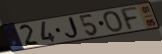2: (19, 23, 42, 48)
4: (41, 20, 59, 44)
5: (78, 12, 99, 38)
F: (118, 6, 140, 32)
J: (63, 15, 81, 41)
O: (103, 10, 124, 33)
